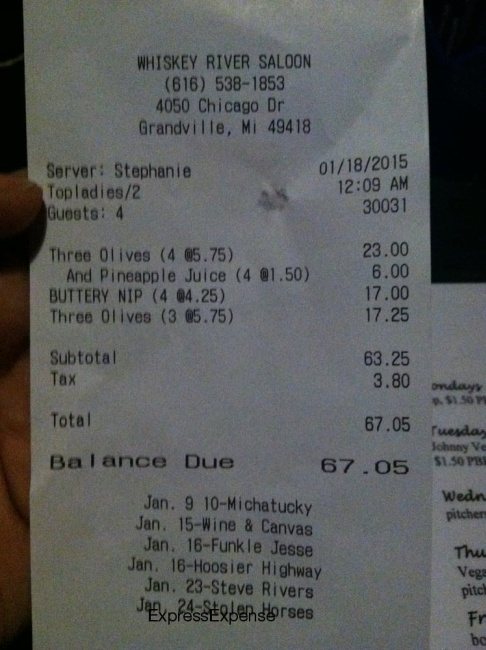Additional details: (116, 491, 327, 620)
Purchase summary: (42, 159, 423, 486)
Receipt: (33, 1, 428, 649)
Shop details: (122, 48, 343, 137)
